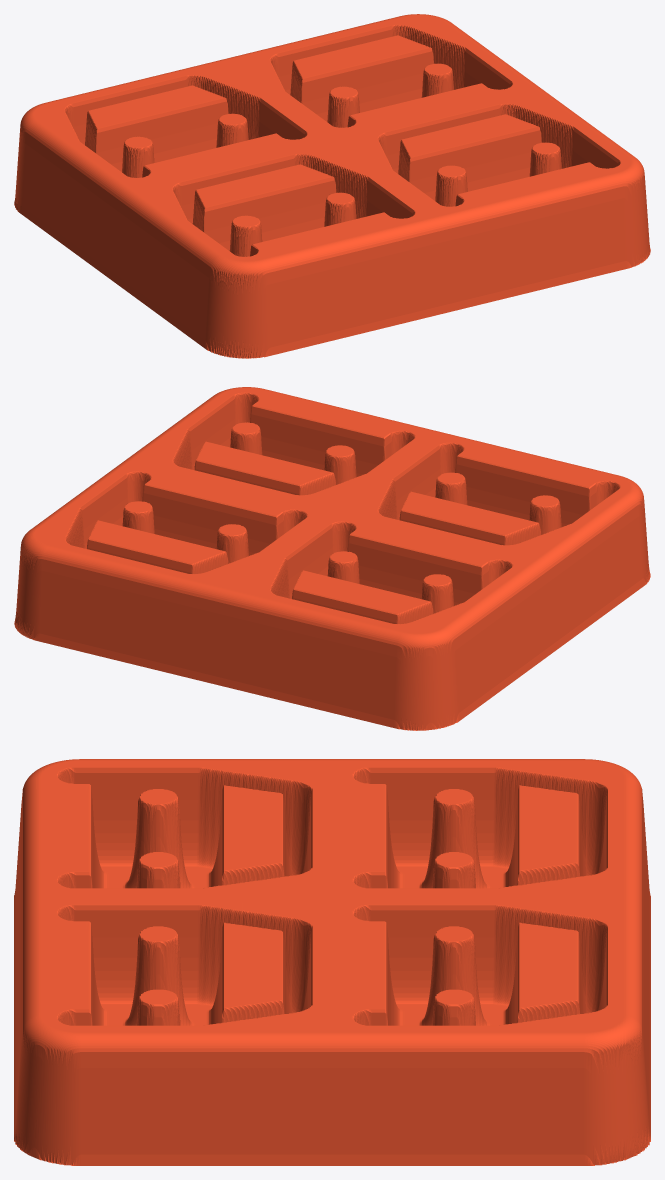
The model's file is mold.glb.
3 renders of one model, top to bottom at view 1: azimuth 30°, elevation 25°; view 2: azimuth 150°, elevation 25°; view 3: azimuth 270°, elevation 25°, orthographic. The views are drawn at different scales.
Parts seen in each view (by area): view 1: geometry_0; view 2: geometry_0; view 3: geometry_0.
Part boxes in pixels (box(x1,y1,x2,y2)): geometry_0: box(14, 14, 650, 358); geometry_0: box(14, 387, 650, 730); geometry_0: box(14, 759, 650, 1165).
Bounding box in the file's own units: 0.0942 × 0.0182 × 0.0862.
